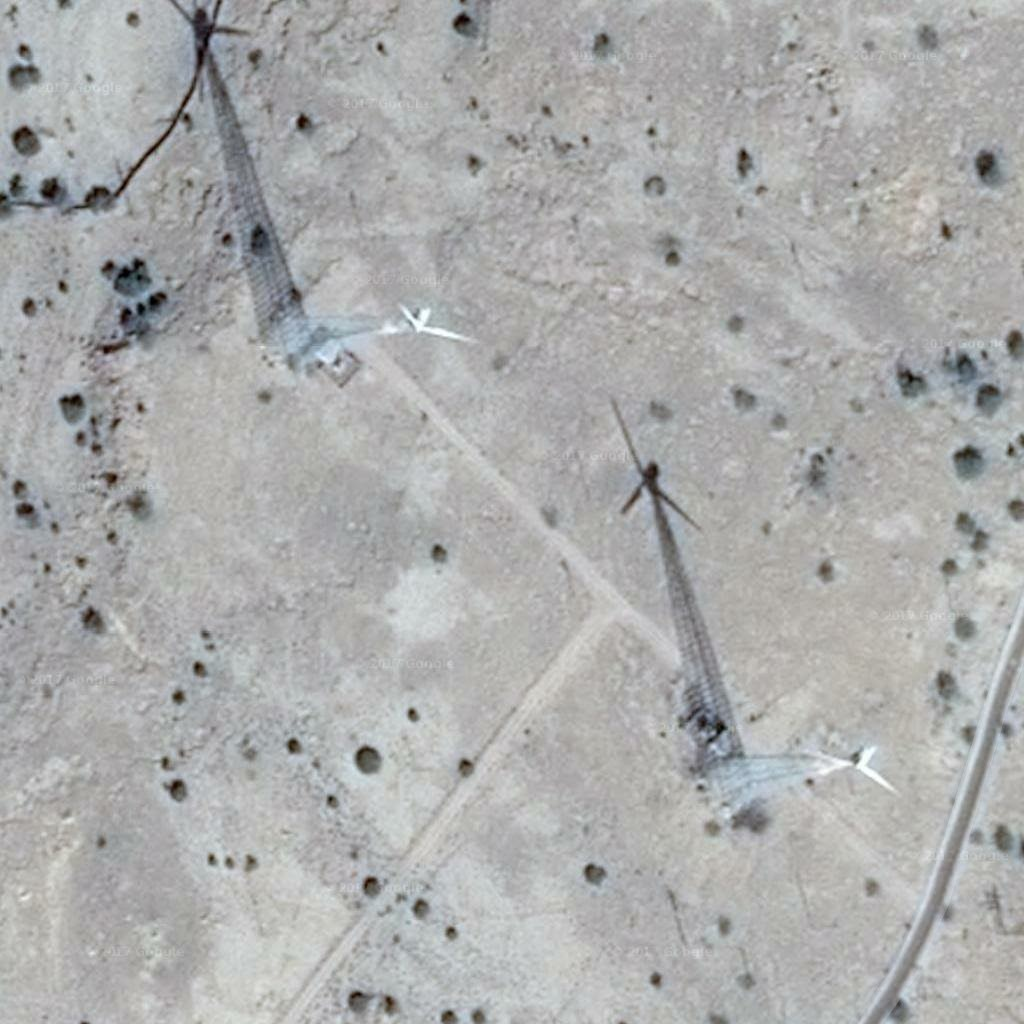Windmill: (163, 6, 336, 366)
